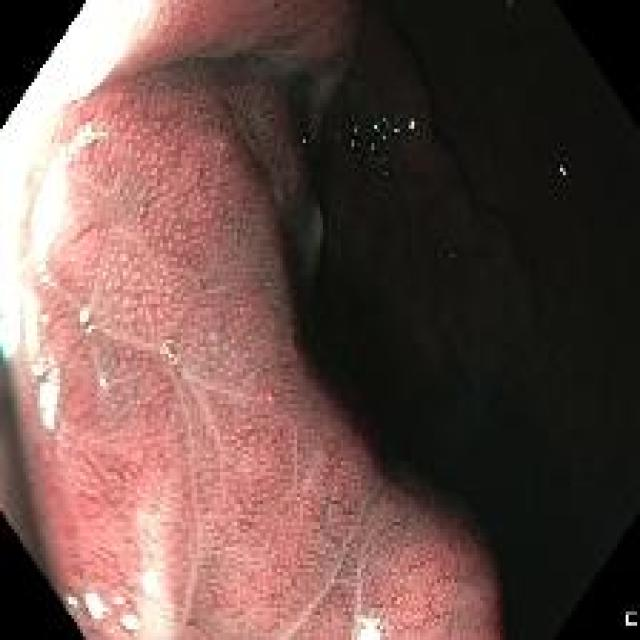bubbles: (76, 302, 99, 342), (162, 341, 182, 372), (96, 370, 111, 392), (444, 246, 459, 264), (377, 164, 392, 181)
contrast: (283, 6, 637, 637)
saturation: (3, 6, 157, 445), (32, 124, 102, 263), (126, 505, 178, 638), (30, 355, 65, 428), (19, 275, 48, 359), (83, 585, 112, 624), (352, 612, 384, 639), (61, 588, 82, 613), (118, 614, 140, 629), (109, 595, 125, 607)
specularity: (366, 112, 404, 156), (551, 155, 572, 186), (79, 305, 96, 332), (348, 125, 361, 148), (162, 345, 176, 364), (98, 372, 110, 390), (404, 114, 418, 129), (298, 137, 308, 153)
